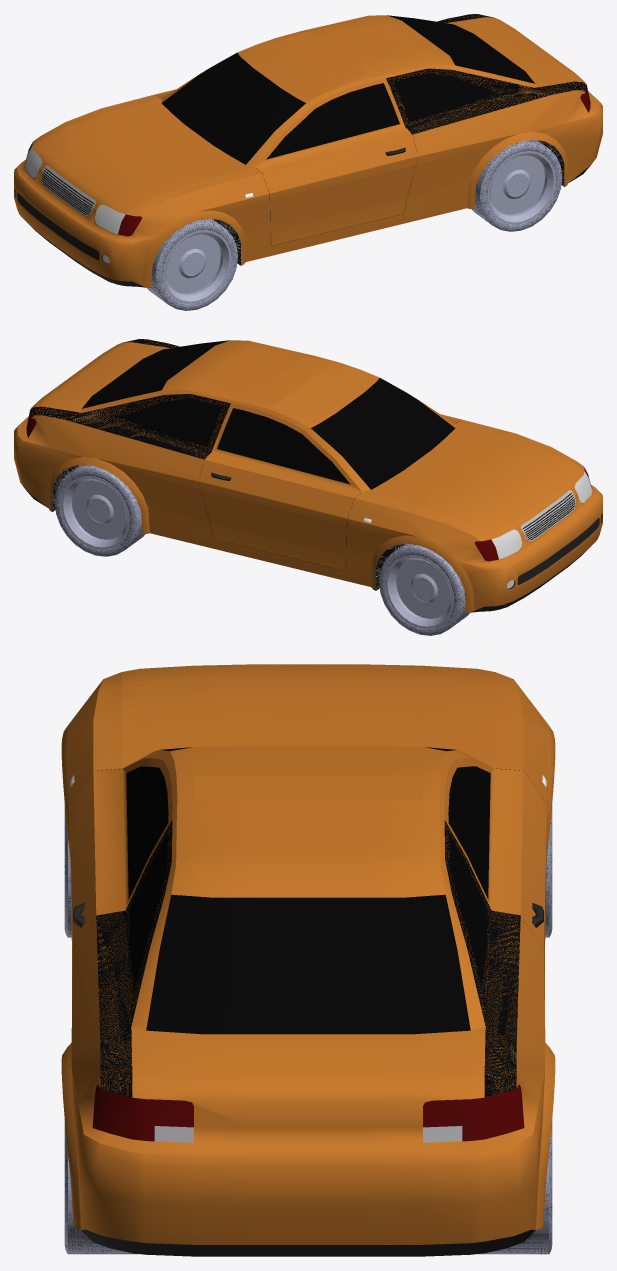
File: car.fbx
3 views of the same model, one above another, from view 1: azimuth 30°, elevation 25°; view 2: azimuth 150°, elevation 25°; view 3: azimuth 270°, elevation 25° (orthographic). The views are drawn at different scales.
Parts seen in each view (by area): view 1: Model; view 2: Model; view 3: Model.
Boxes of the visible parts, x1,y1,x2,y2 form: Model: (14,14,602,310); Model: (14,339,602,635); Model: (61,664,555,1256).
Bounding box in the file's own units: 5.89 × 1.82 × 2.48.
